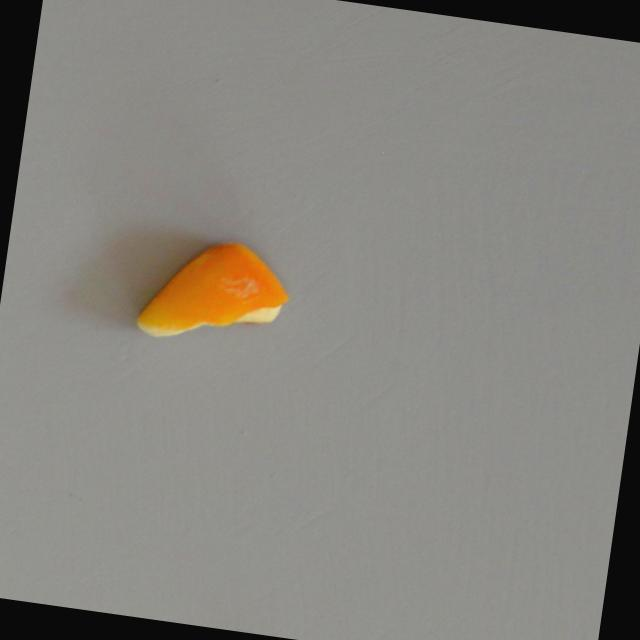dañado: (115, 219, 304, 372)
